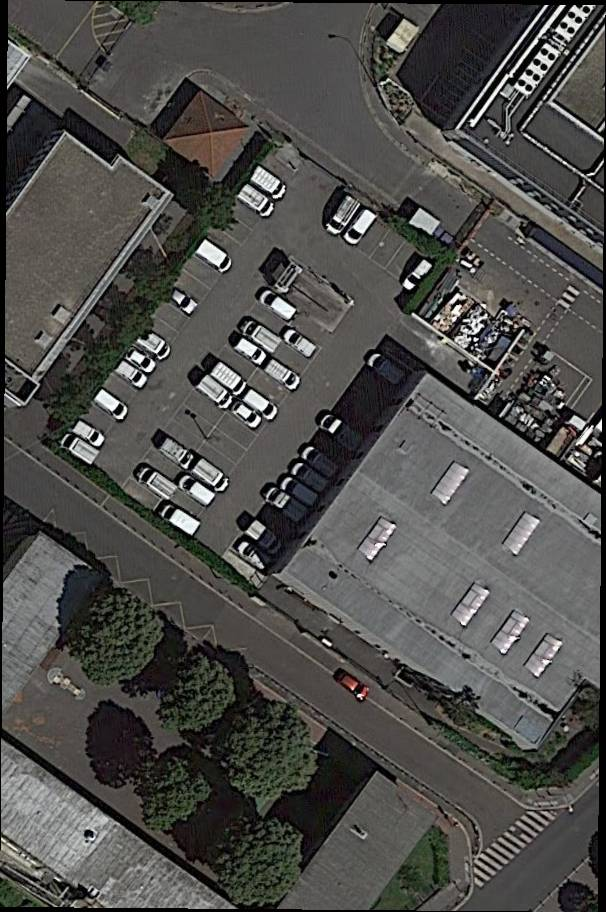small vehicle: (317, 413, 364, 454), (263, 486, 309, 524), (157, 501, 203, 539), (189, 457, 233, 496), (208, 359, 250, 399), (194, 373, 236, 413), (323, 194, 362, 237), (192, 238, 236, 276), (235, 182, 277, 220), (239, 318, 282, 355), (135, 464, 178, 501), (243, 519, 284, 557), (57, 431, 100, 467), (176, 473, 217, 510), (365, 350, 407, 386), (256, 288, 299, 323), (134, 326, 174, 363), (240, 386, 280, 423), (262, 357, 303, 393), (249, 165, 288, 202), (91, 387, 131, 423), (299, 444, 339, 480), (332, 666, 371, 702), (342, 208, 378, 247), (156, 436, 196, 471), (289, 460, 330, 494), (68, 417, 108, 450), (400, 257, 436, 293), (279, 475, 319, 507), (235, 539, 273, 572), (111, 359, 150, 391), (281, 328, 318, 360), (229, 398, 264, 431), (232, 335, 268, 367), (122, 345, 158, 376), (167, 286, 200, 317)
